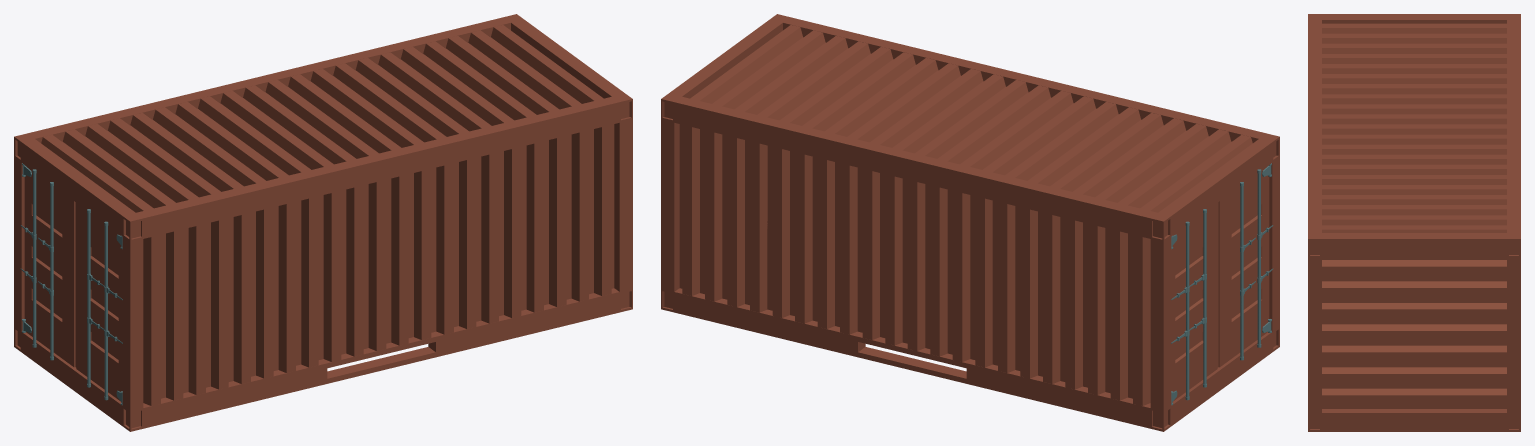
Rendered from shippingContainerFINAL.fbx.
3 views of the same model, side by side, from view 1: azimuth 30°, elevation 25°; view 2: azimuth 150°, elevation 25°; view 3: azimuth 270°, elevation 25° (orthographic). The views are drawn at different scales.
Visible parts, largest first — view 1: Container, Door Guards; view 2: Container, Door Guards; view 3: Container.
Part boxes in pixels (<box>): Container: <box>14,14,632,431</box>; Door Guards: <box>20,163,122,405</box>; Container: <box>661,14,1279,431</box>; Door Guards: <box>1171,163,1273,405</box>; Container: <box>1308,14,1520,431</box>.
Size of the model in its own units: 503 by 200 by 200.
